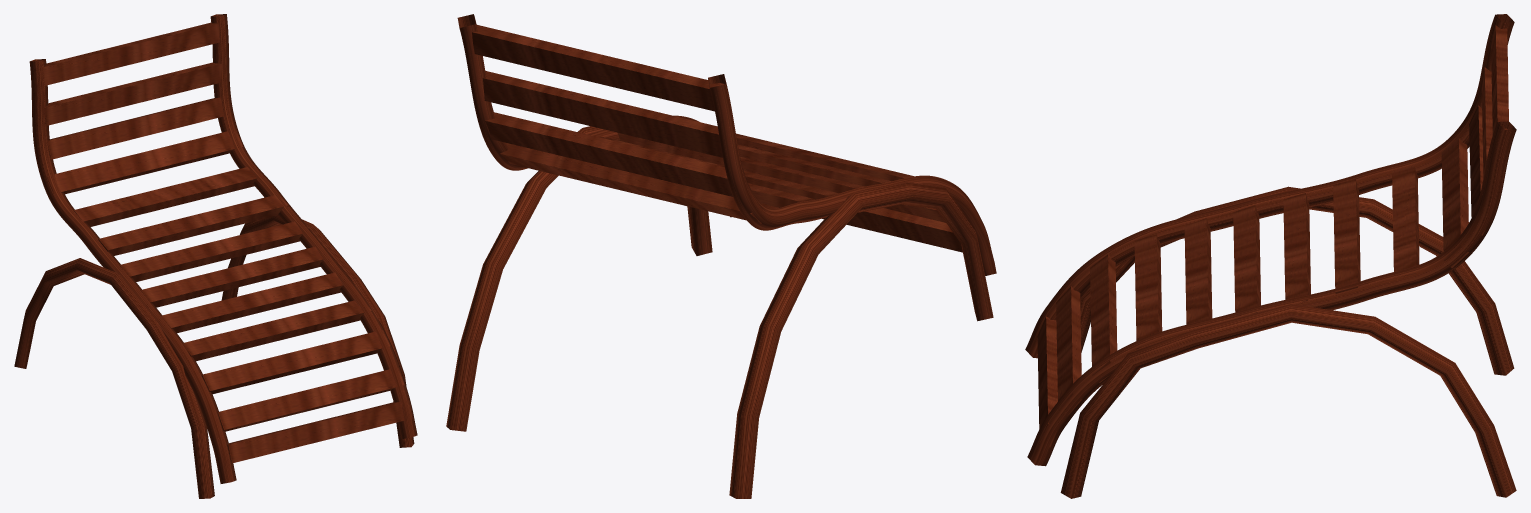
Rendered from lettino.obj.
3 views of the same model, side by side, from view 1: azimuth 30°, elevation 25°; view 2: azimuth 150°, elevation 25°; view 3: azimuth 270°, elevation 25° (orthographic). The views are drawn at different scales.
Visible parts, largest first — view 1: Point.005, Point.007, Cube.004_Cube.005, Cube.001_Cube.002, Cube.011_Cube.012, Cube_Cube.001, Cube.012_Cube.013, Cube.008_Cube.009, Cube.006_Cube.007, Cube.009_Cube.010, Cube.010_Cube.011, Cube.013_Cube.014 (+3 smaller); view 2: Point.007, Point.005, Cube_Cube.001, Cube.001_Cube.002, Cube.002_Cube.003, Cube.004_Cube.005, Cube.013_Cube.014, Cube.008_Cube.009, Cube.010_Cube.011, Cube.009_Cube.010, Cube.007_Cube.008, Cube.006_Cube.007; view 3: Point.005, Point.007, Cube.006_Cube.007, Cube.007_Cube.008, Cube.008_Cube.009, Cube.011_Cube.012, Cube.005_Cube.006, Cube.009_Cube.010, Cube.004_Cube.005, Cube.010_Cube.011, Cube.012_Cube.013, Cube.013_Cube.014 (+3 smaller).
Boxes of the visible parts, x1=… form: Point.005: x1=29, y1=14, x2=417, y2=483; Point.007: x1=14, y1=215, x2=414, y2=498; Cube.004_Cube.005: x1=47, y1=129, x2=242, y2=194; Cube.001_Cube.002: x1=44, y1=62, x2=221, y2=125; Cube.011_Cube.012: x1=201, y1=330, x2=390, y2=394; Cube_Cube.001: x1=43, y1=22, x2=219, y2=85; Cube.012_Cube.013: x1=217, y1=367, x2=404, y2=431; Cube.008_Cube.009: x1=140, y1=245, x2=323, y2=307; Cube.006_Cube.007: x1=98, y1=194, x2=288, y2=255; Cube.009_Cube.010: x1=160, y1=272, x2=342, y2=333; Cube.010_Cube.011: x1=182, y1=300, x2=371, y2=361; Cube.013_Cube.014: x1=227, y1=399, x2=412, y2=463; Point.007: x1=446, y1=126, x2=993, y2=498; Point.005: x1=457, y1=14, x2=996, y2=275; Cube_Cube.001: x1=472, y1=24, x2=724, y2=111; Cube.001_Cube.002: x1=482, y1=71, x2=722, y2=157; Cube.002_Cube.003: x1=485, y1=112, x2=732, y2=196; Cube.004_Cube.005: x1=500, y1=143, x2=765, y2=223; Cube.013_Cube.014: x1=822, y1=208, x2=962, y2=252; Cube.008_Cube.009: x1=617, y1=132, x2=863, y2=193; Cube.010_Cube.011: x1=736, y1=133, x2=913, y2=181; Cube.009_Cube.010: x1=738, y1=144, x2=890, y2=186; Cube.007_Cube.008: x1=598, y1=136, x2=838, y2=199; Cube.006_Cube.007: x1=748, y1=183, x2=814, y2=207; Point.005: x1=1025, y1=14, x2=1516, y2=466; Point.007: x1=1060, y1=186, x2=1516, y2=498; Cube.006_Cube.007: x1=1333, y1=179, x2=1360, y2=293; Cube.007_Cube.008: x1=1283, y1=193, x2=1310, y2=301; Cube.008_Cube.009: x1=1233, y1=205, x2=1260, y2=313; Cube.011_Cube.012: x1=1090, y1=254, x2=1117, y2=382; Cube.005_Cube.006: x1=1392, y1=165, x2=1419, y2=283; Cube.009_Cube.010: x1=1184, y1=218, x2=1212, y2=324; Cube.004_Cube.005: x1=1441, y1=138, x2=1469, y2=267; Cube.010_Cube.011: x1=1134, y1=234, x2=1162, y2=348; Cube.012_Cube.013: x1=1056, y1=286, x2=1081, y2=415; Cube.013_Cube.014: x1=1037, y1=316, x2=1058, y2=447.
Size of the model in its own units: 1.95 by 2.56 by 3.09.
2 materials, 2 textured.
